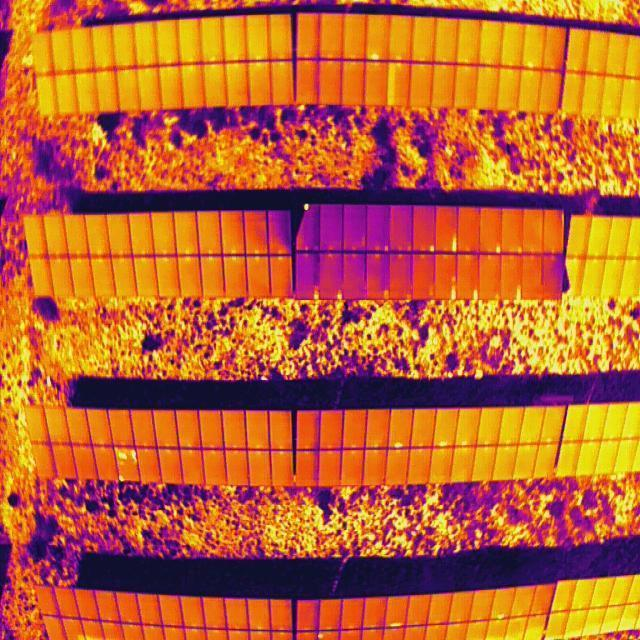panel: (197, 409, 225, 450), (107, 408, 136, 447), (128, 408, 157, 447), (152, 409, 181, 448), (174, 410, 203, 449), (155, 447, 185, 484), (178, 448, 207, 486), (221, 408, 247, 450), (245, 409, 271, 451), (268, 408, 294, 450), (113, 446, 142, 483), (135, 447, 163, 485), (200, 449, 228, 486), (224, 449, 249, 487), (247, 450, 272, 488), (270, 450, 295, 488)
